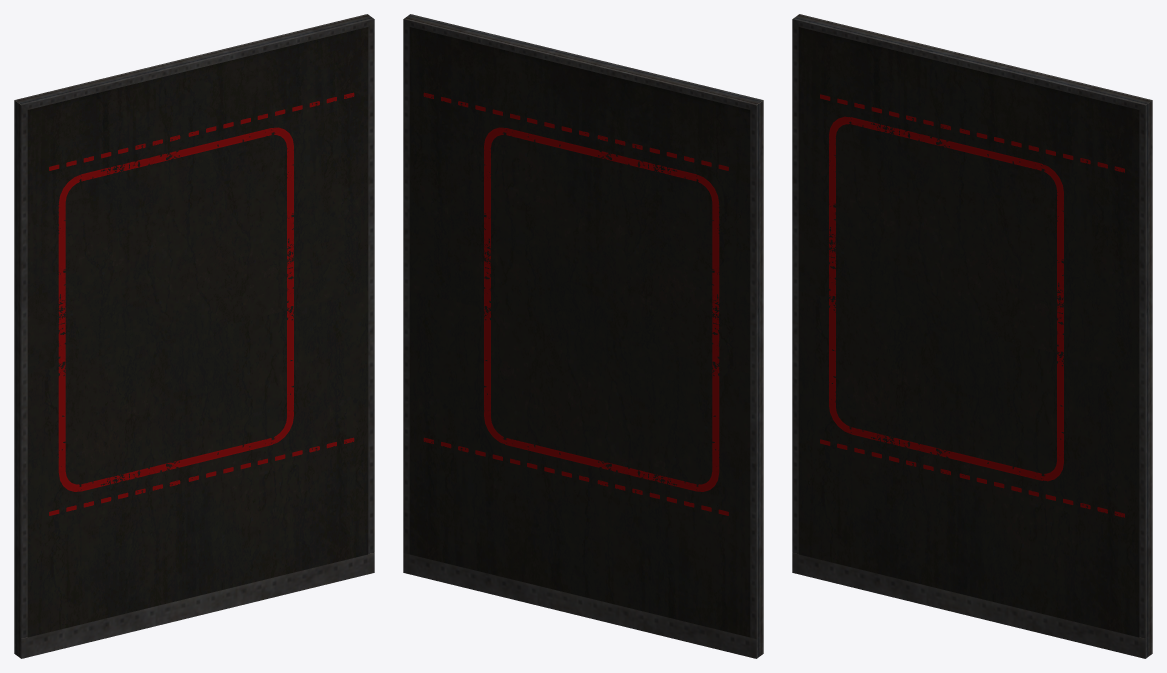
File: slidedoor_lab_glass_right.dae
3 renders of one model, left to right at view 1: azimuth 30°, elevation 25°; view 2: azimuth 150°, elevation 25°; view 3: azimuth 330°, elevation 25°, orthographic.
Visible parts, largest first — view 1: glass__2_, door_right, decal__2_; view 2: glass__2_, door_right, decal__2_; view 3: glass__2_, door_right, decal__2_.
Part boxes in pixels (x1,y1,x2,y2): glass__2_: [27, 27, 368, 637]; door_right: [14, 14, 374, 658]; decal__2_: [49, 92, 354, 515]; glass__2_: [409, 27, 750, 637]; door_right: [403, 14, 763, 658]; decal__2_: [423, 92, 728, 515]; glass__2_: [798, 27, 1139, 637]; door_right: [792, 14, 1152, 658]; decal__2_: [820, 94, 1124, 517].
Bounding box in the file's own units: 2 × 3 × 0.0781.
